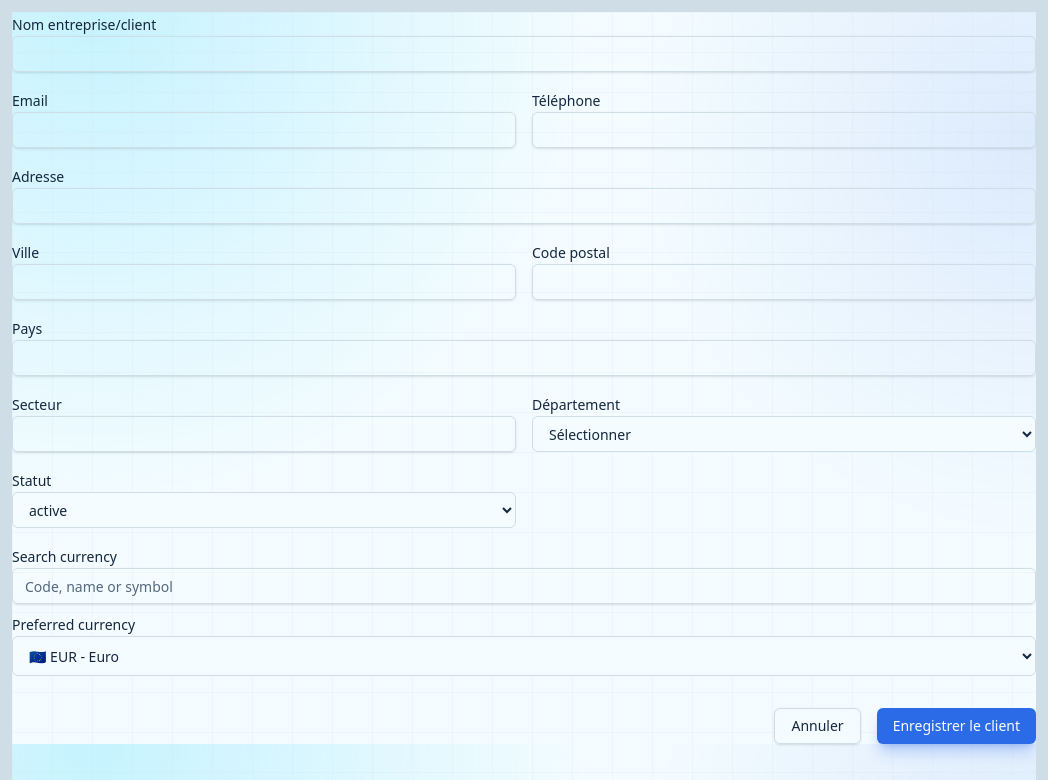
ClientForm › shows error message when name is too short
In the field labelled "Nom entreprise/client": x=524, y=54 12,36 -> 1036,72, type "A"
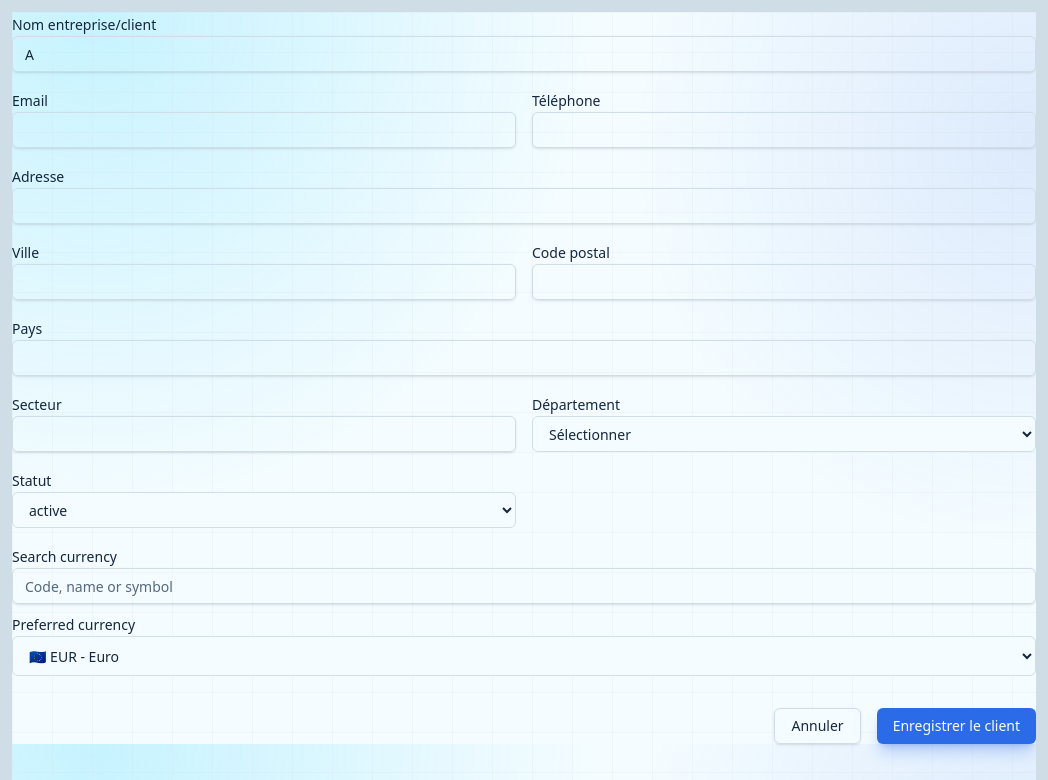
Click the button "Enregistrer le client": x=956, y=726 877,708 -> 1036,744
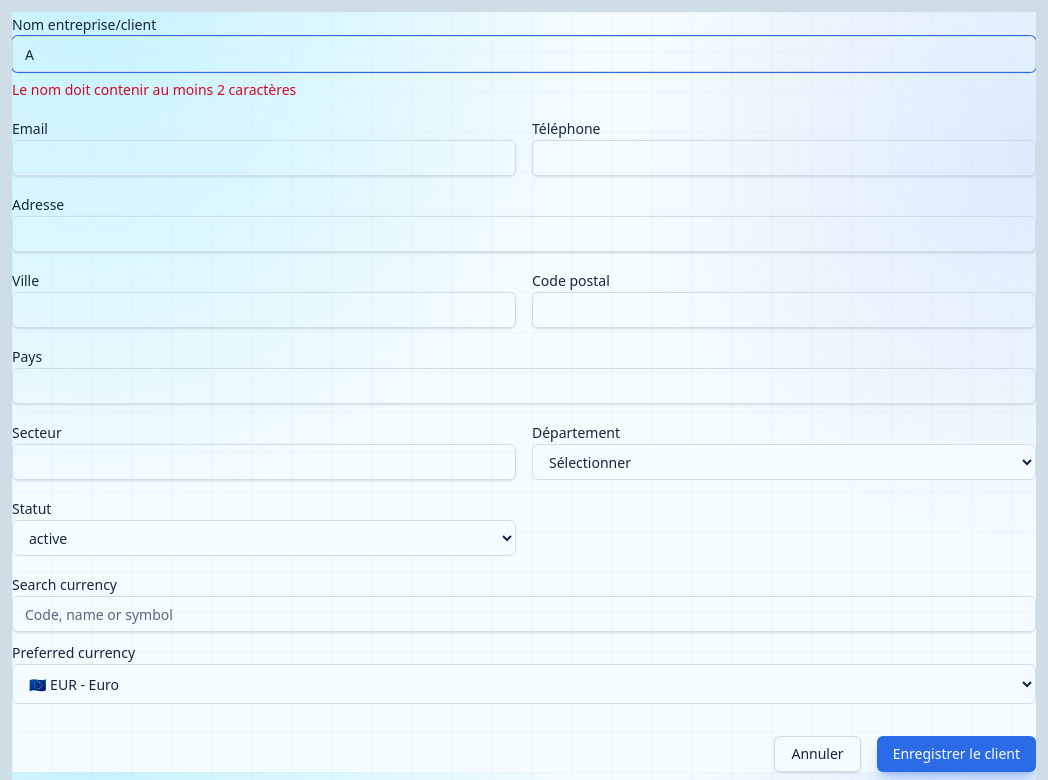
expect the text "Le nom doit contenir au moins 2 caractères" is shown: met, box 12,80 -> 296,99
